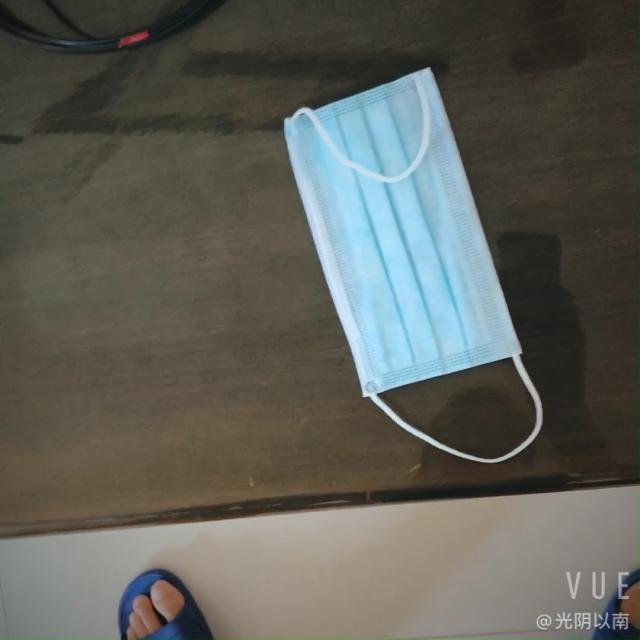face mask: (272, 86, 550, 428)
